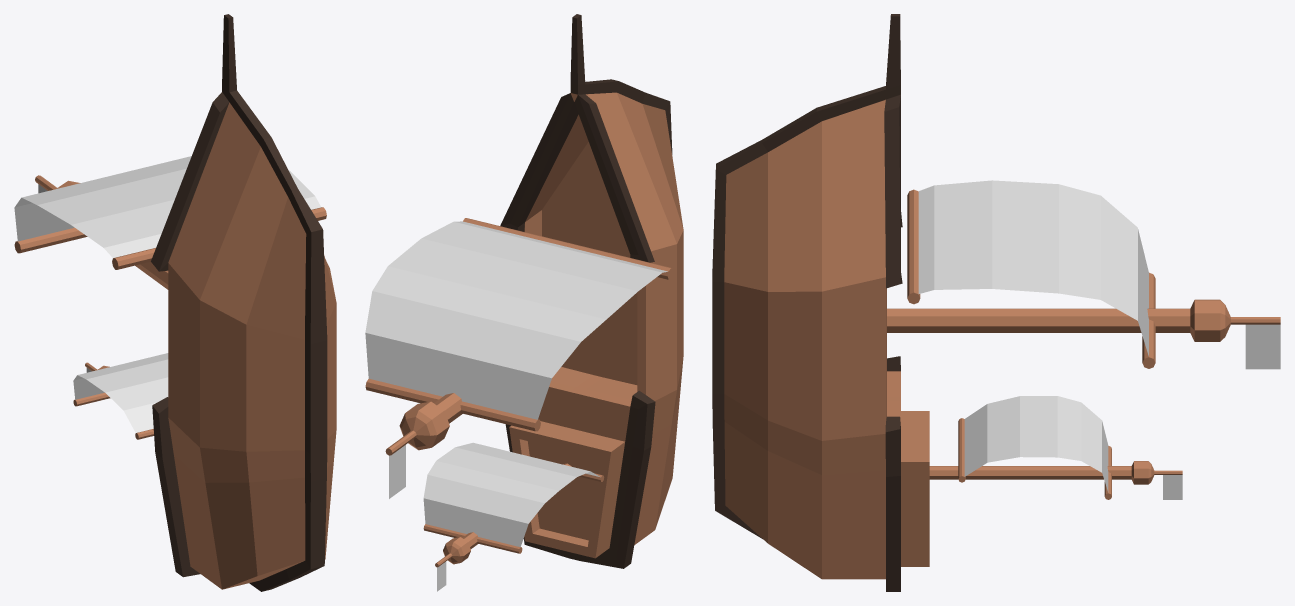
The model's file is Ship2.fbx.
3 renders of one model, left to right at view 1: azimuth 30°, elevation 25°; view 2: azimuth 150°, elevation 25°; view 3: azimuth 270°, elevation 25°, orthographic. The views are drawn at different scales.
Parts seen in each view (by area): view 1: ship; view 2: ship; view 3: ship.
Boxes of the visible parts, x1=… form: ship: x1=14, y1=14, x2=336, y2=591; ship: x1=365, y1=14, x2=683, y2=591; ship: x1=712, y1=14, x2=1280, y2=591.
Bounding box in the file's own units: 137 × 324 × 301.
